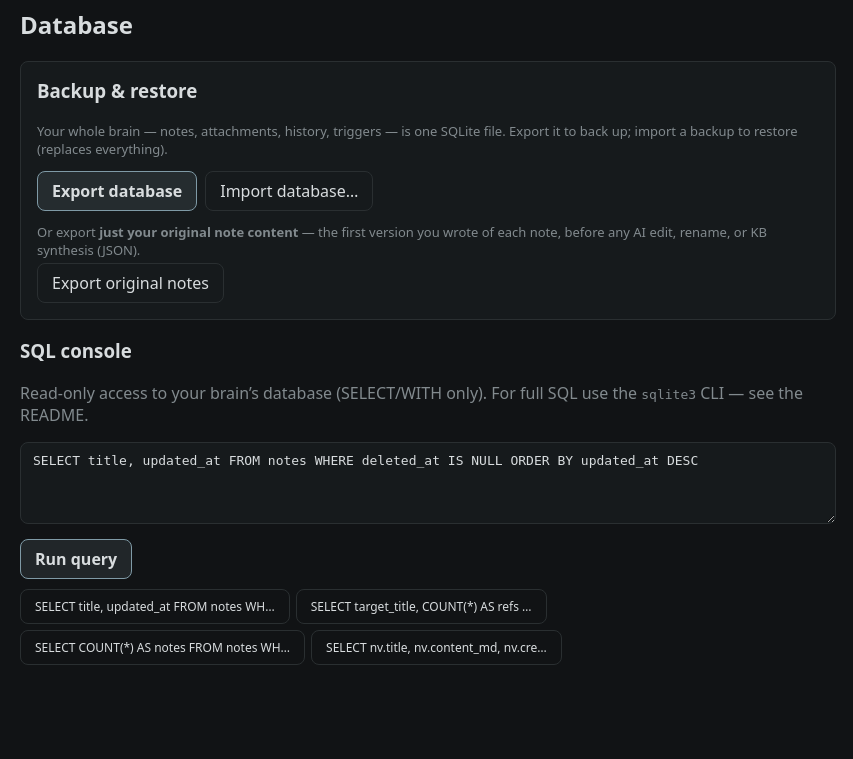
Test: SqlConsole — query console › renders an empty result (columns but zero rows) as 0 row(s)
Click the button "Run query": (76, 559) [20,539,132,579]
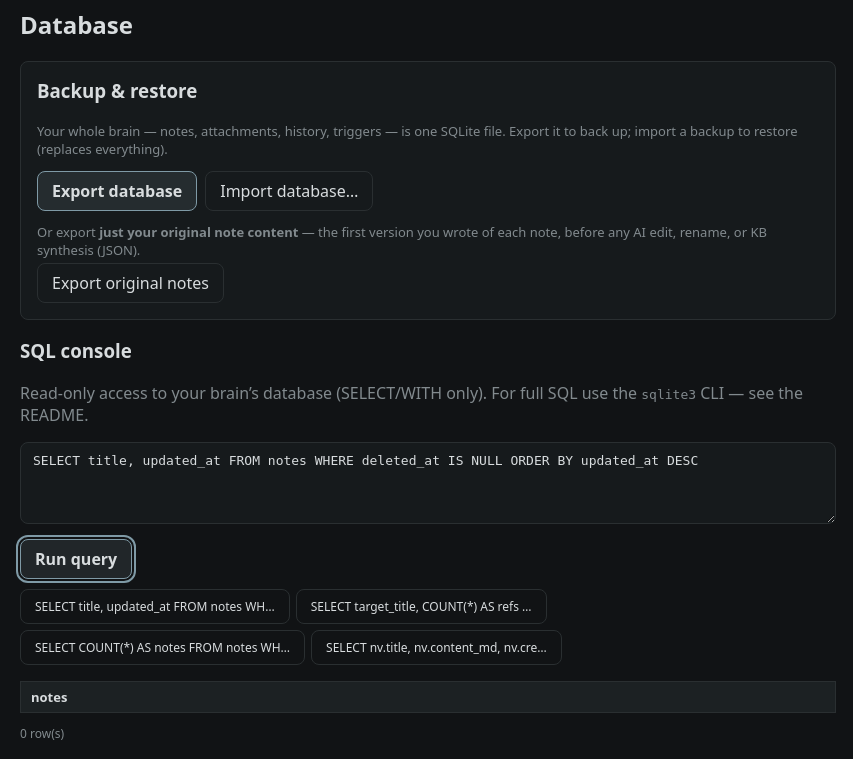
Check: the column heading "notes" is shown, box [20,682,836,712]
Check: the text "0 row(s)" is shown, box [20,725,64,742]
